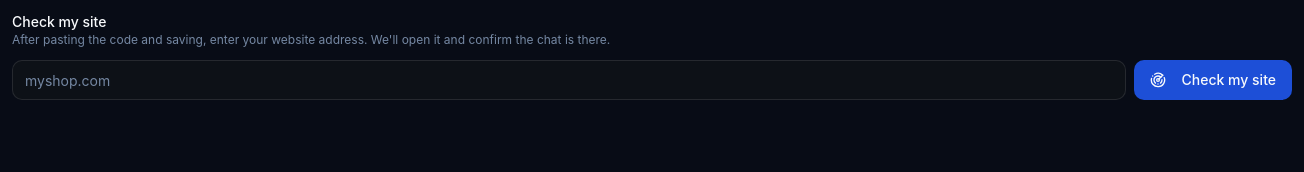
it: InstallCheck › asks for a valid address
Type "my shop" into the field named "Your website address" at (569, 80), box [12, 60, 1126, 100]
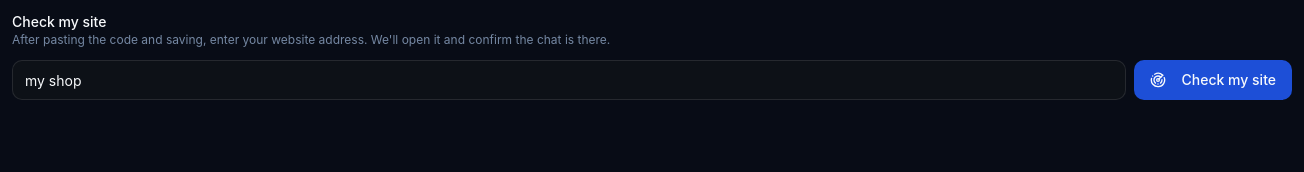
Click the button "Check my site" at (1213, 80), box [1134, 60, 1292, 100]
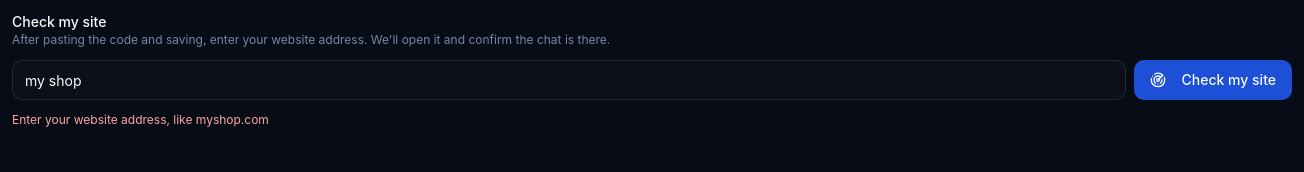
Expected: the message shows "Enter your website address", [12, 112, 269, 127]
